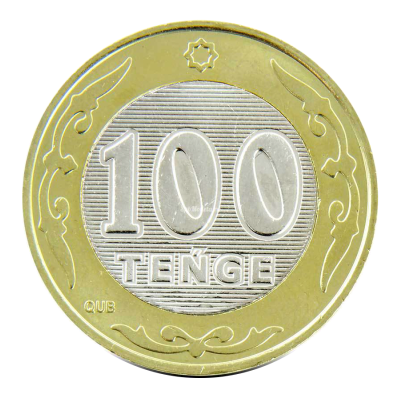coin: (19, 19, 377, 380)
